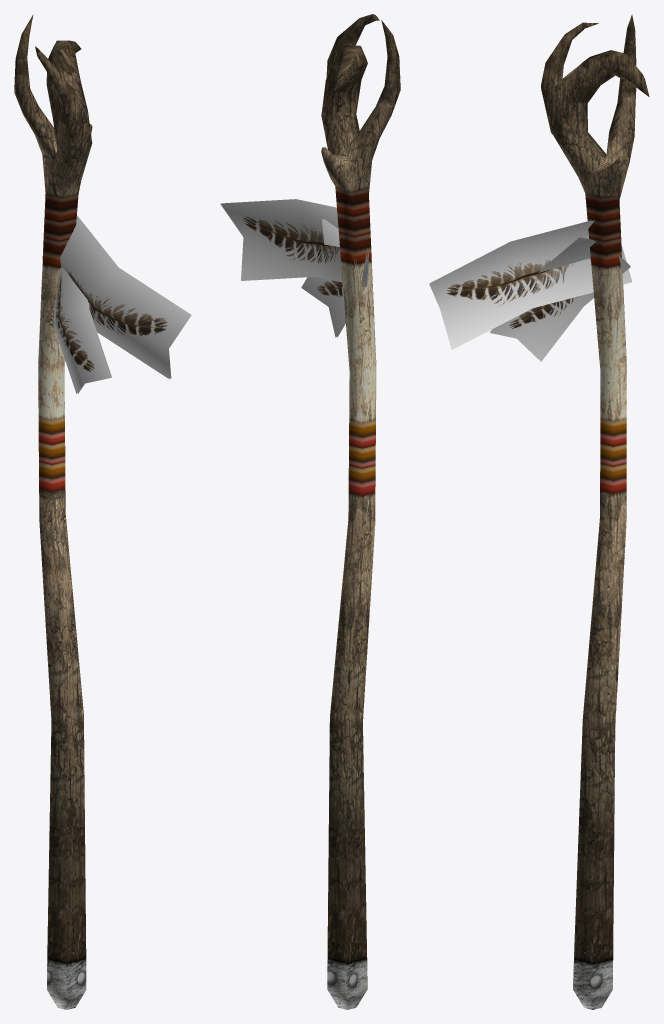
File: druidstaff.FBX
3 views of the same model, side by side, from view 1: azimuth 30°, elevation 25°; view 2: azimuth 210°, elevation 25°; view 3: azimuth 270°, elevation 25° (orthographic).
Visible parts, largest first — view 1: DruidStaff; view 2: DruidStaff; view 3: DruidStaff.
Part boxes in pixels (x1,y1,x2,y2): DruidStaff: [14, 15, 191, 1009]; DruidStaff: [220, 14, 400, 1009]; DruidStaff: [429, 14, 649, 1009].
Size of the model in its own units: 15.96 by 193 by 39.14.
